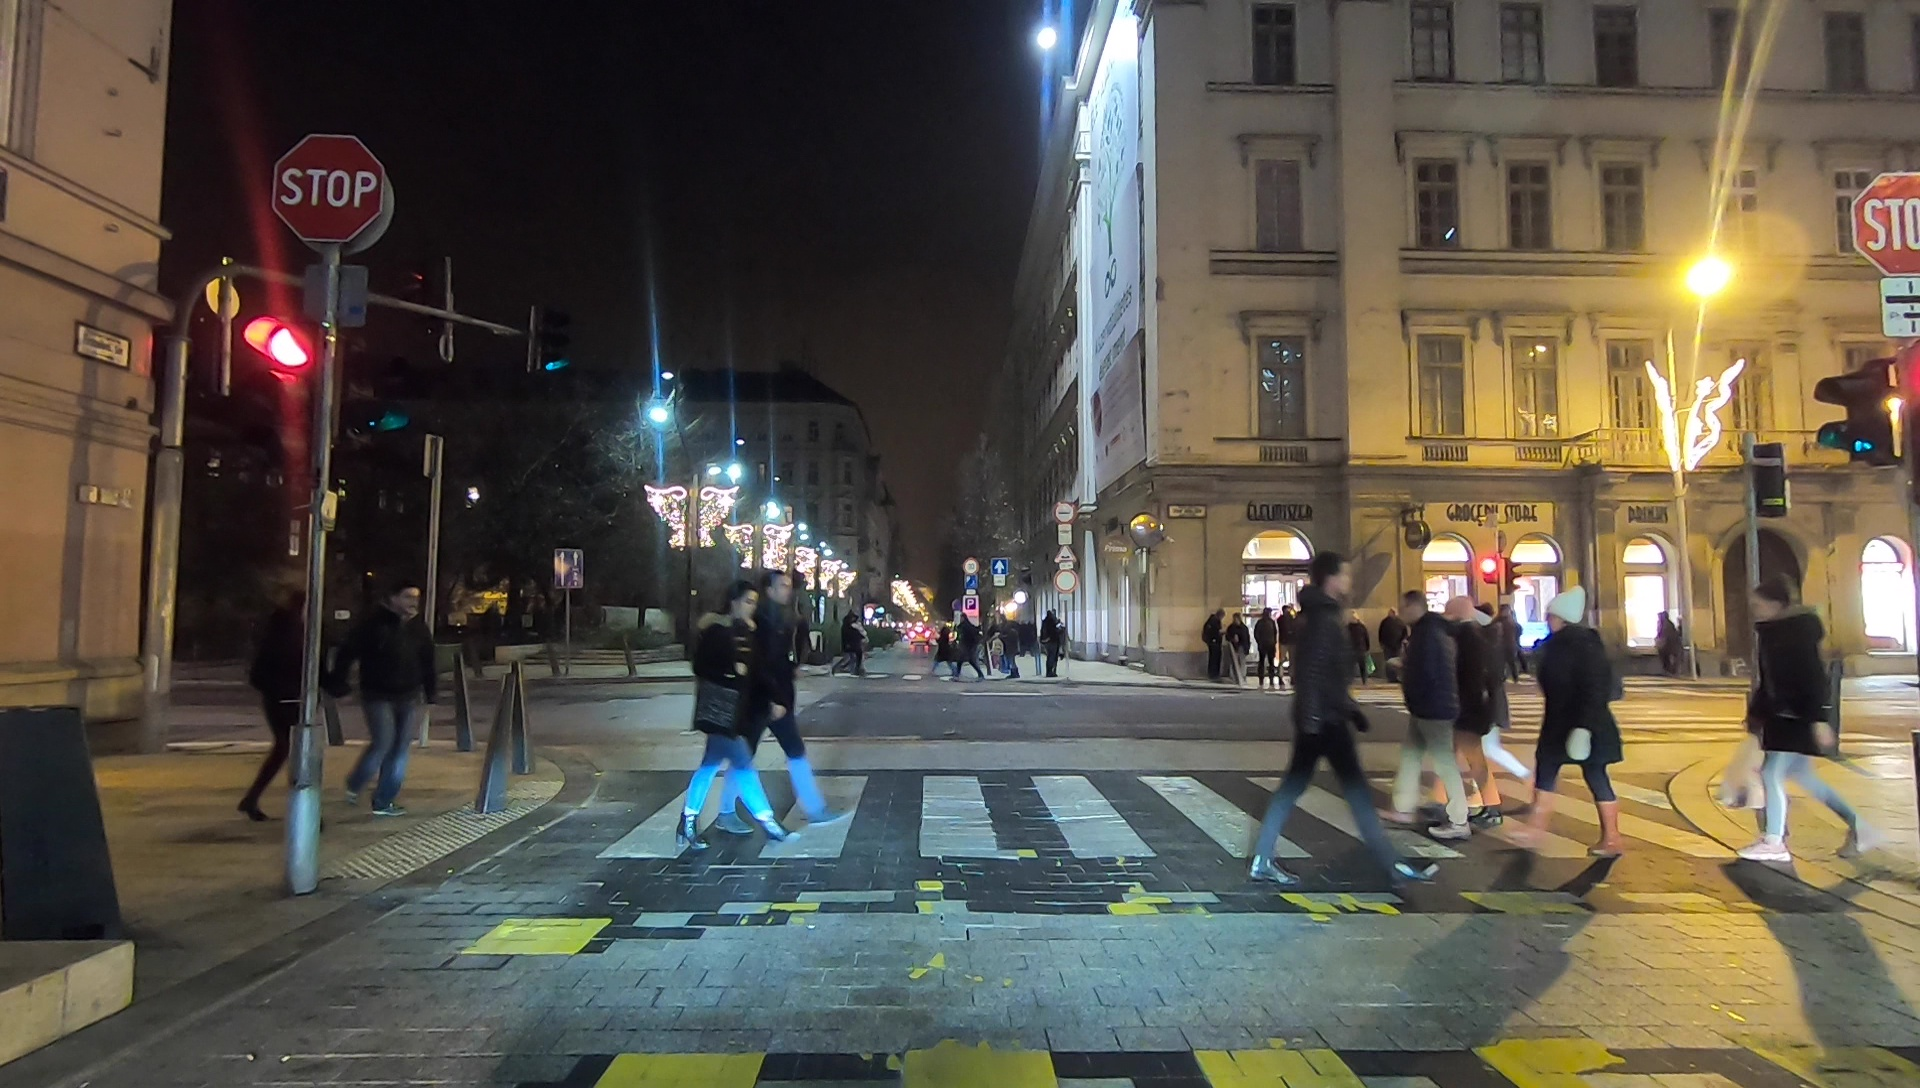person: (1251, 549, 1415, 884), (1738, 582, 1873, 860), (719, 565, 841, 837), (676, 580, 784, 847), (1528, 589, 1628, 854), (347, 584, 434, 821), (247, 586, 328, 826), (1393, 595, 1471, 843), (1445, 591, 1508, 819), (1039, 613, 1067, 676), (1654, 613, 1682, 669), (1382, 613, 1404, 684), (839, 613, 865, 673), (1254, 613, 1275, 684), (997, 610, 1021, 673), (1228, 610, 1247, 684), (1201, 610, 1223, 674), (960, 617, 982, 676), (1282, 604, 1297, 676), (934, 623, 952, 676)
